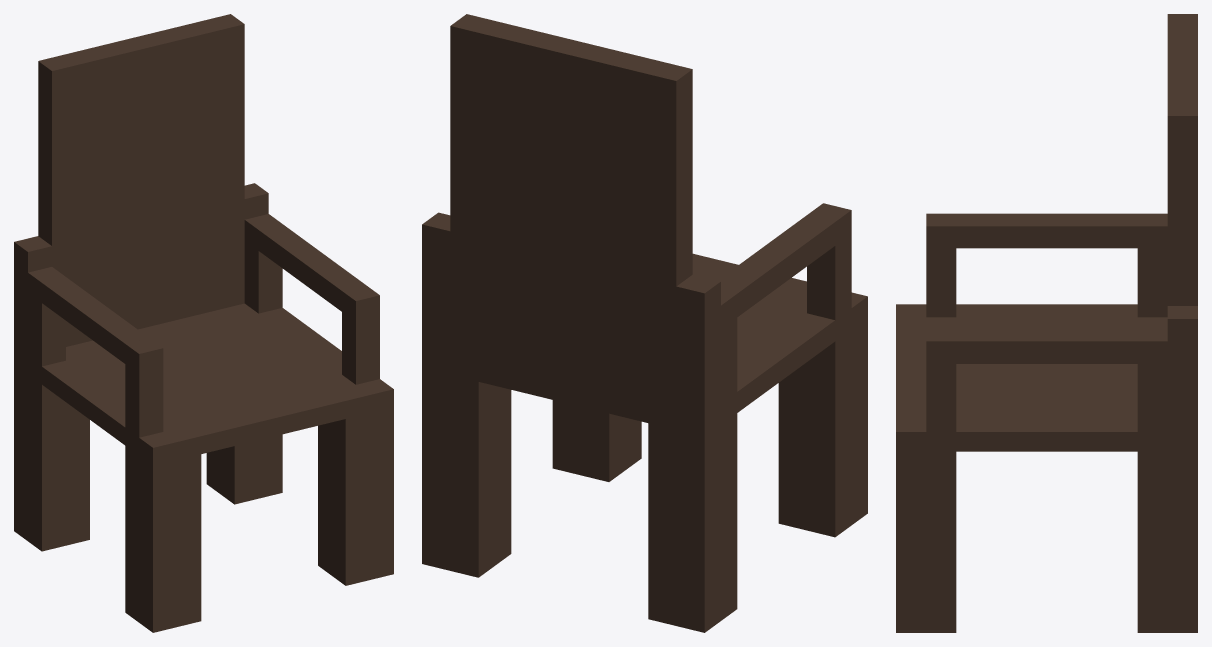
Rendered from chair.fbx.
3 views of the same model, side by side, from view 1: azimuth 30°, elevation 25°; view 2: azimuth 150°, elevation 25°; view 3: azimuth 270°, elevation 25° (orthographic). The views are drawn at different scales.
Parts seen in each view (by area): view 1: Cube; view 2: Cube; view 3: Cube.
Boxes of the visible parts, bbox=[...] form: Cube: bbox=[14, 14, 393, 632]; Cube: bbox=[422, 14, 867, 632]; Cube: bbox=[896, 14, 1197, 632].
Bounding box in the file's own units: 200 × 369 × 200.
